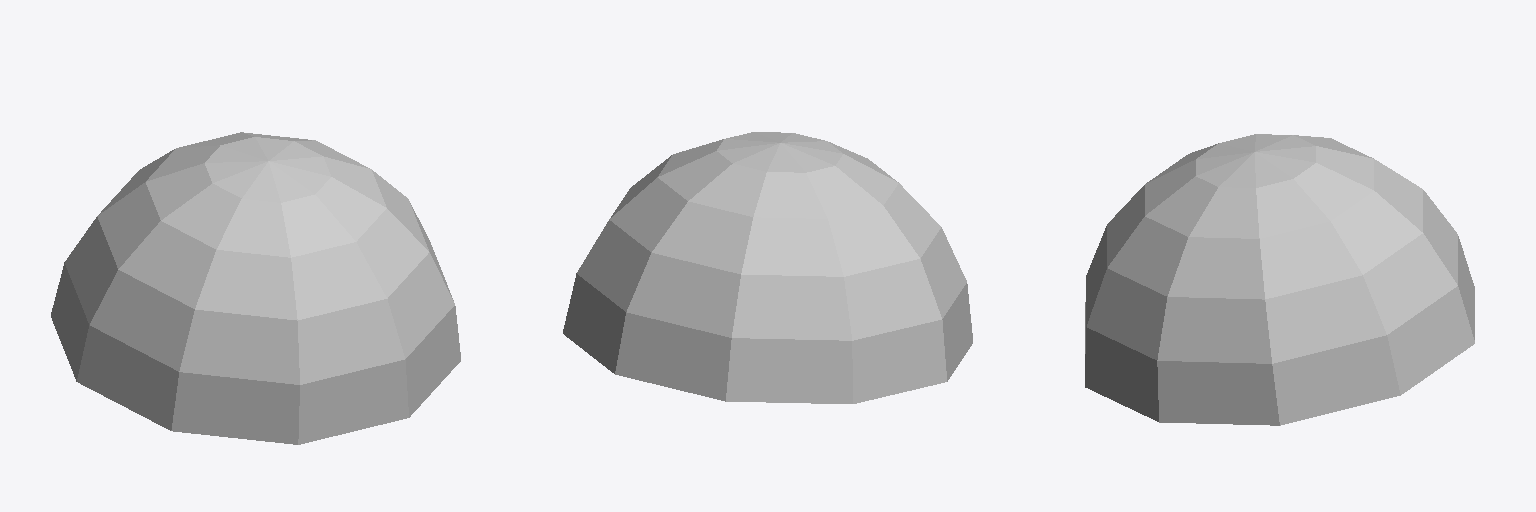
File: module_lever_mount_lamp1.obj
The picture shows the model from 3 angles: view 1: azimuth 30°, elevation 25°; view 2: azimuth 150°, elevation 25°; view 3: azimuth 270°, elevation 25°; orthographic projection.
Bounding box in the file's own units: 0.0328 × 0.0182 × 0.031.